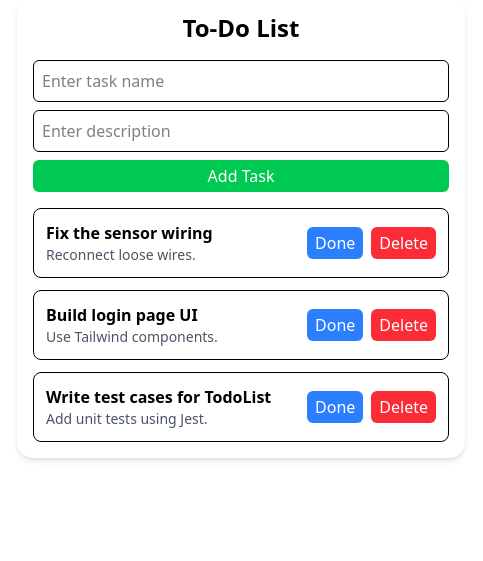
Test: TodoList Component › adds a new todo
Type "New Todo" into the field with placeholder "Enter task name" at coordinates (241, 81), box left=33, top=60, right=449, bottom=102
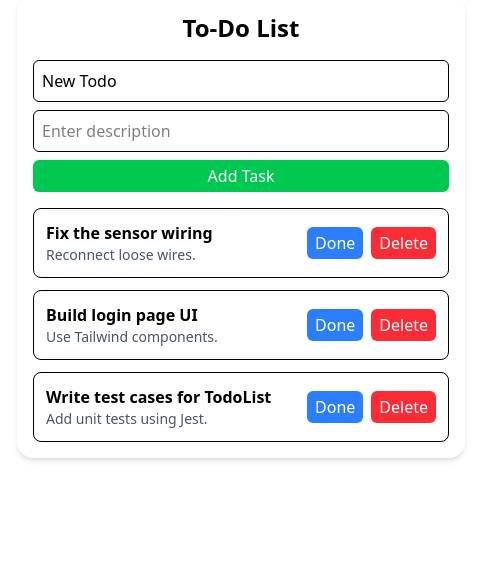
Type "Testing addition" into the field with placeholder "Enter description" at coordinates (241, 131), box left=33, top=110, right=449, bottom=152
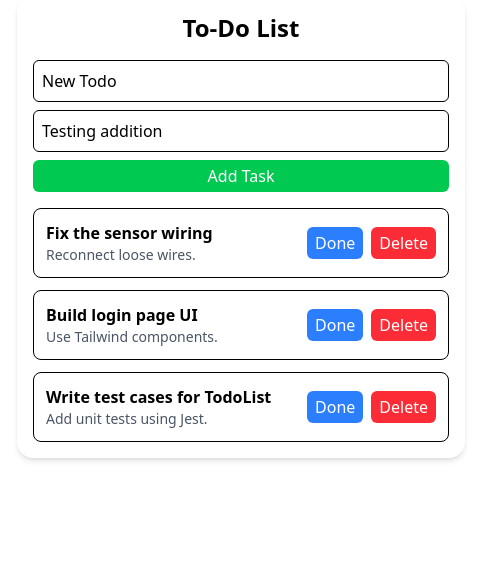
Click the button "Add Task" at coordinates (241, 176), box left=33, top=160, right=449, bottom=192
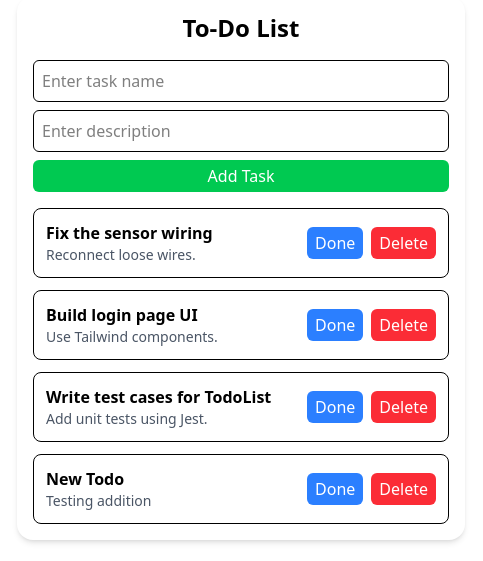
Result: the heading "New Todo" is shown at left=46, top=468, right=124, bottom=490
